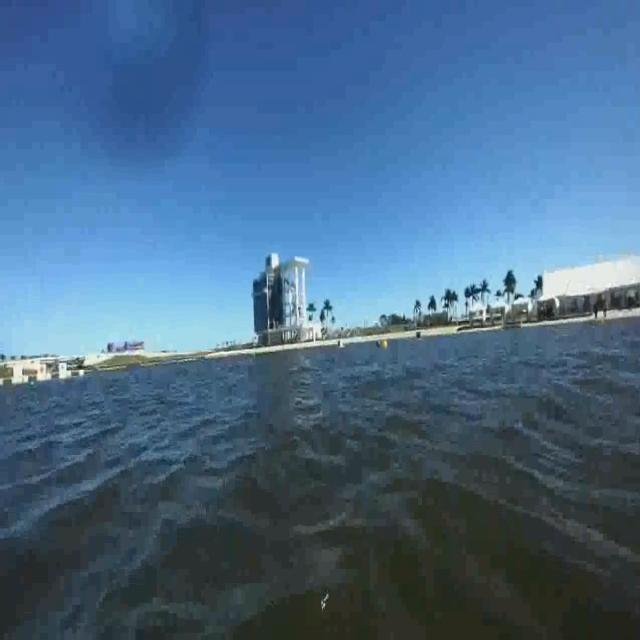yellow-buoy: (382, 339, 389, 351)
